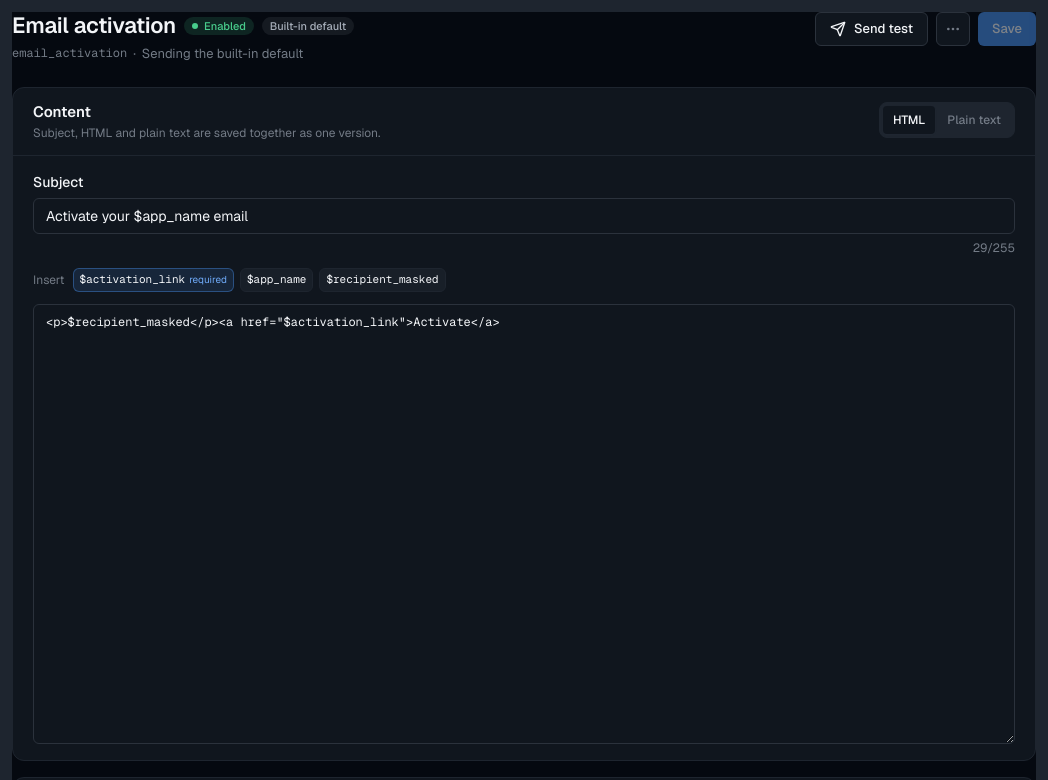
EmailTemplateEditor › switches between the HTML and plain-text bodies with a segmented control
The width and height of the screenshot is (1048, 780).
Click the tab "Plain text": (974, 120) [937,106,1011,134]
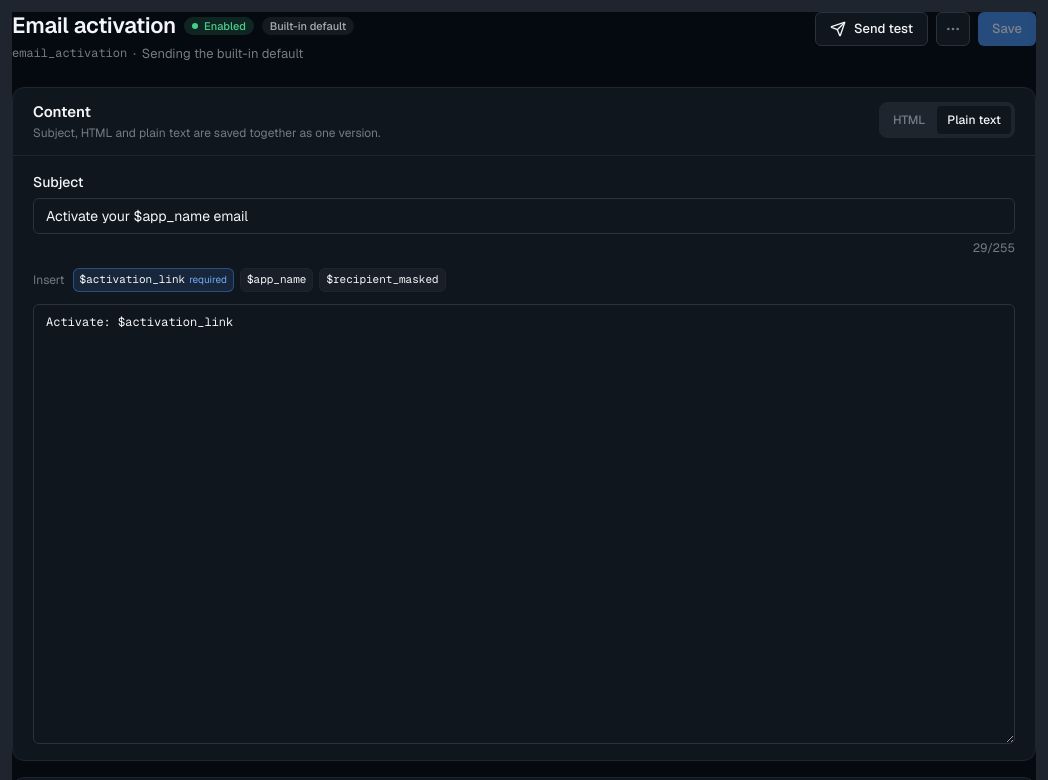
Expected: the text box named "Plain-text body" holds "Activate: $activation_link", [33,304,1015,744]
